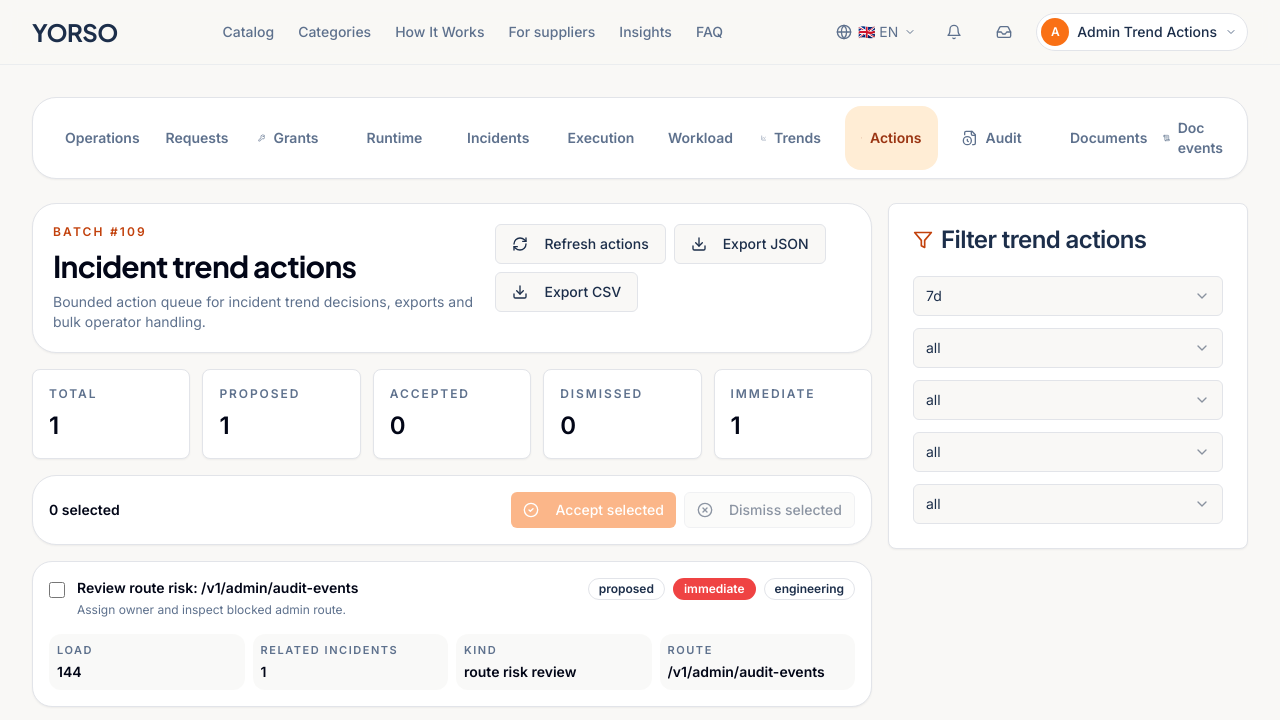
Test: AdminIncidentTrendActions page › renders queue, exports and bulk decisions without raw session data
Later steps or results of the test are not shown.
Expected: the element with test id "admin-incident-trend-actions-summary" shows "Proposed", [219,386,300,401]
Click the button with test id "admin-incident-trend-actions-export-json" at (750,244), box [674,224,826,264]
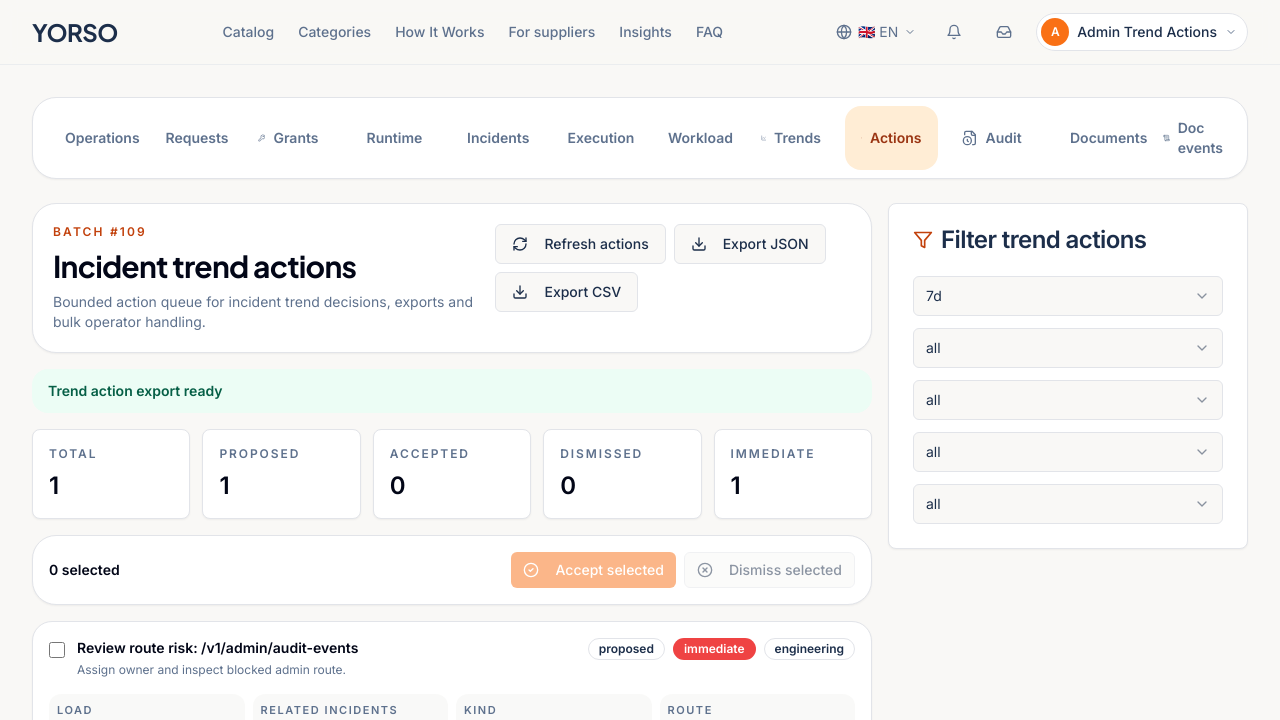
Expected: the text with test id "admin-incident-trend-actions-export-status" reads "Trend action export ready", [48,382,222,399]
Click the button with test id "admin-incident-trend-actions-export-csv" at (567,292), box [496,272,638,312]
Expected: the text with test id "admin-incident-trend-actions-export-status" reads "Trend action export ready", [48,382,222,399]
